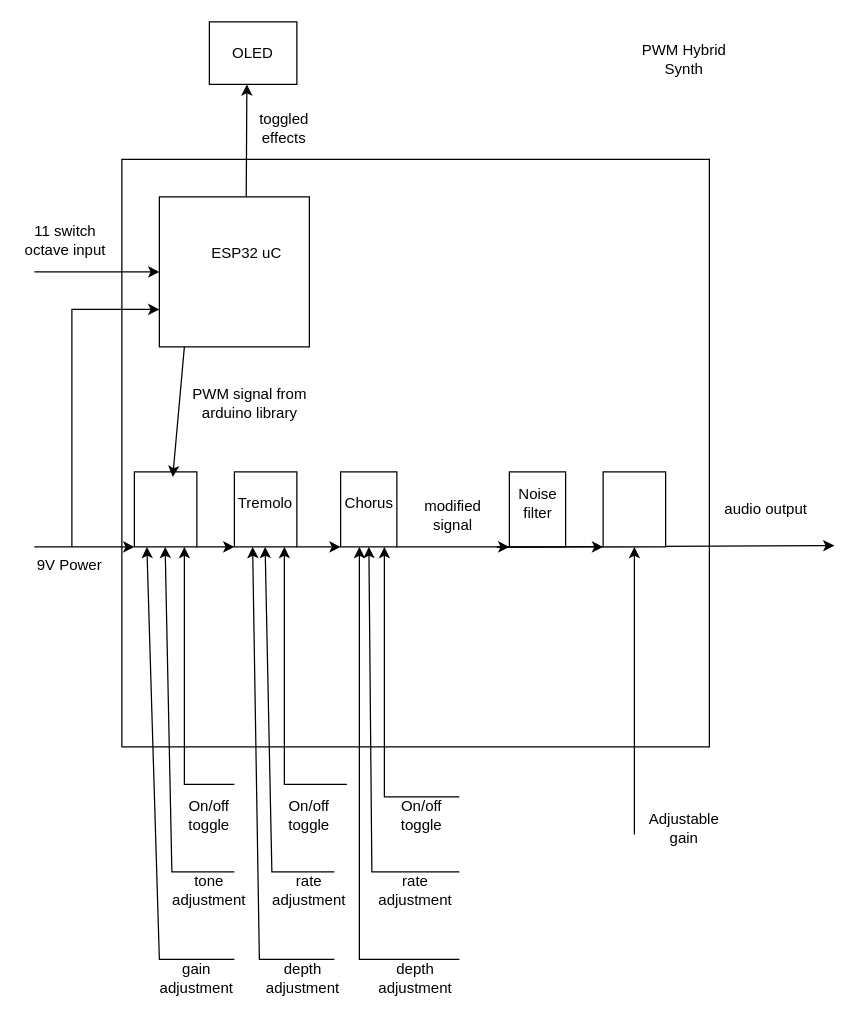
Some shapes in this 866 by 1019 pixel diagram are drawn without their labels. The shapes that lost their labels are listed below. From the top down, each one's centre as x and y in pixels, then its label:
At point (165, 509): "Fuzz".
At point (634, 509): "Class D amp".
